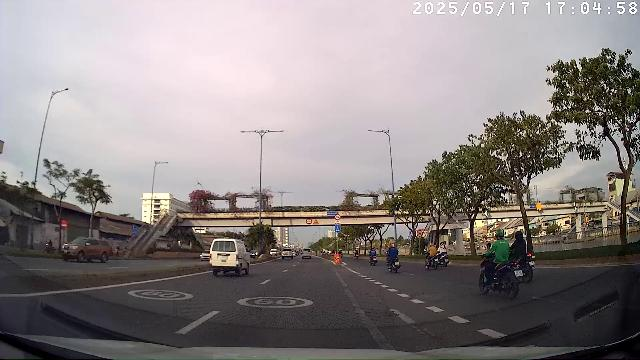103a-cam-oto: (416, 230, 423, 237)
